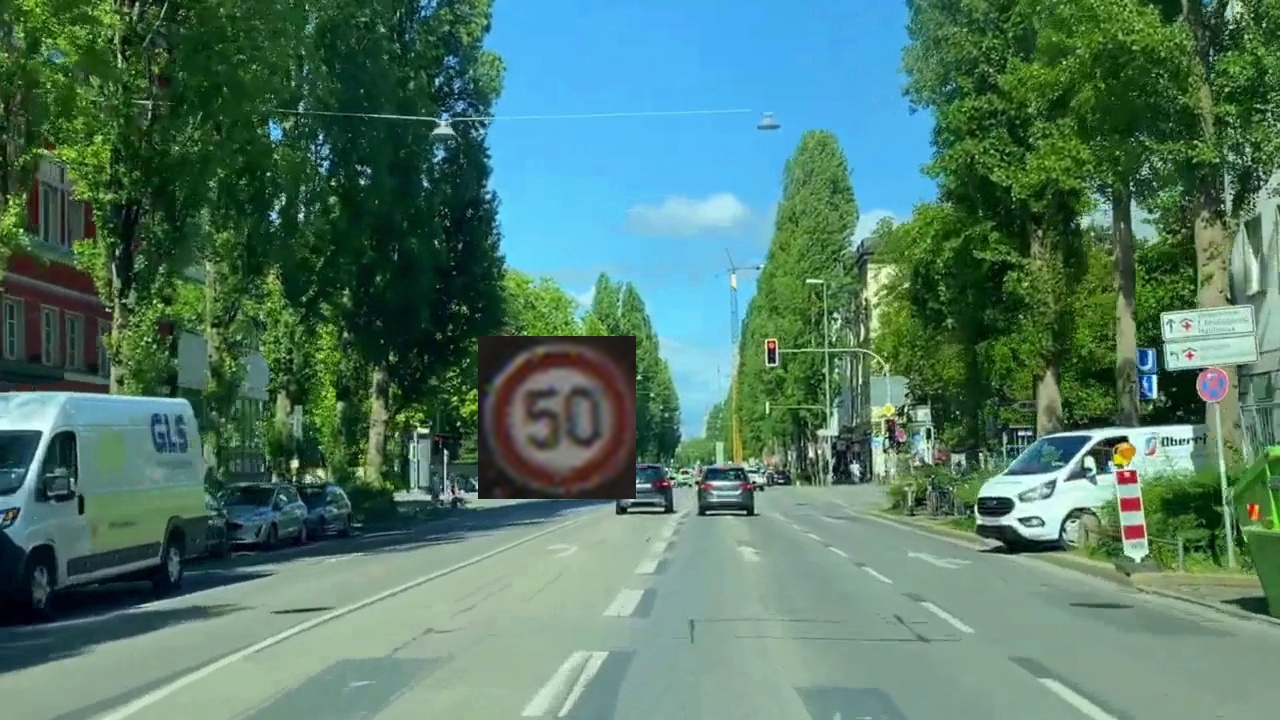Speed 50: (478, 336, 636, 499)
